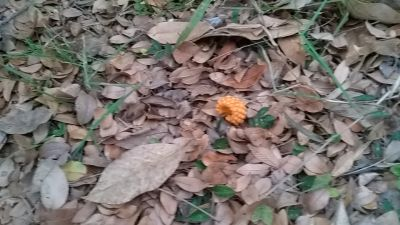eggs: (215, 94, 248, 124)
